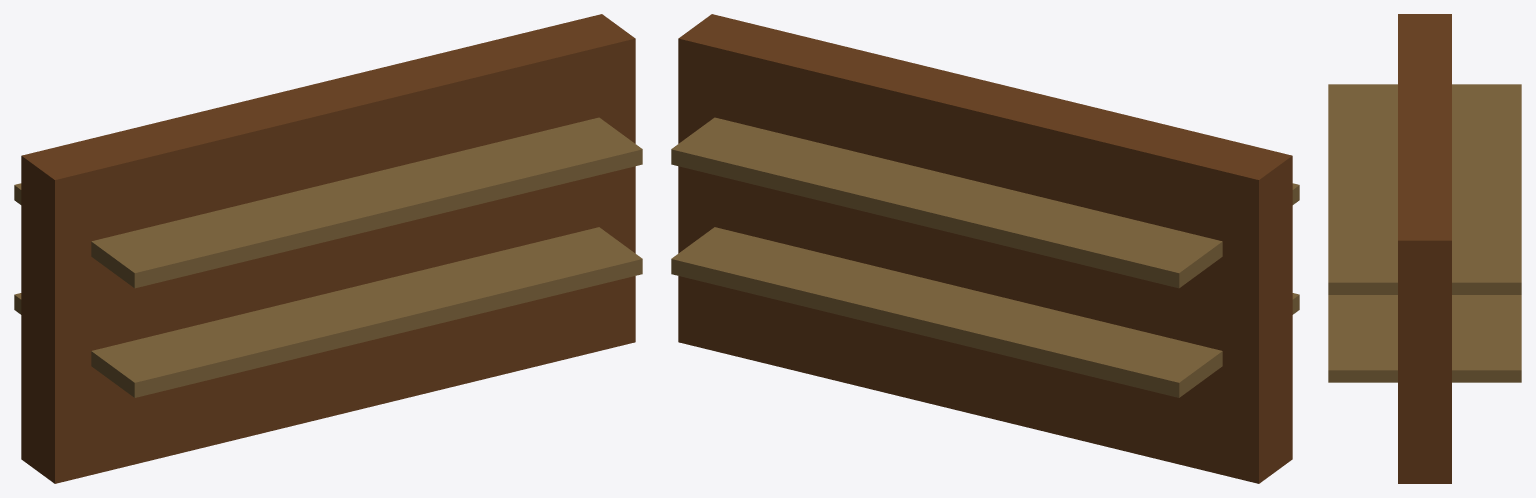
Rendered from shelf1.fbx.
The picture shows the model from 3 angles, left to right: view 1: azimuth 30°, elevation 25°; view 2: azimuth 150°, elevation 25°; view 3: azimuth 270°, elevation 25°; orthographic projection. The views are drawn at different scales.
Visible parts, largest first — view 1: Shelf1; view 2: Shelf1; view 3: Shelf1.
Part boxes in pixels (x1,y1,x2,y2): Shelf1: (14, 14, 642, 483); Shelf1: (671, 14, 1299, 483); Shelf1: (1328, 14, 1521, 483).
Size of the model in its own units: 400 by 200 by 144.
